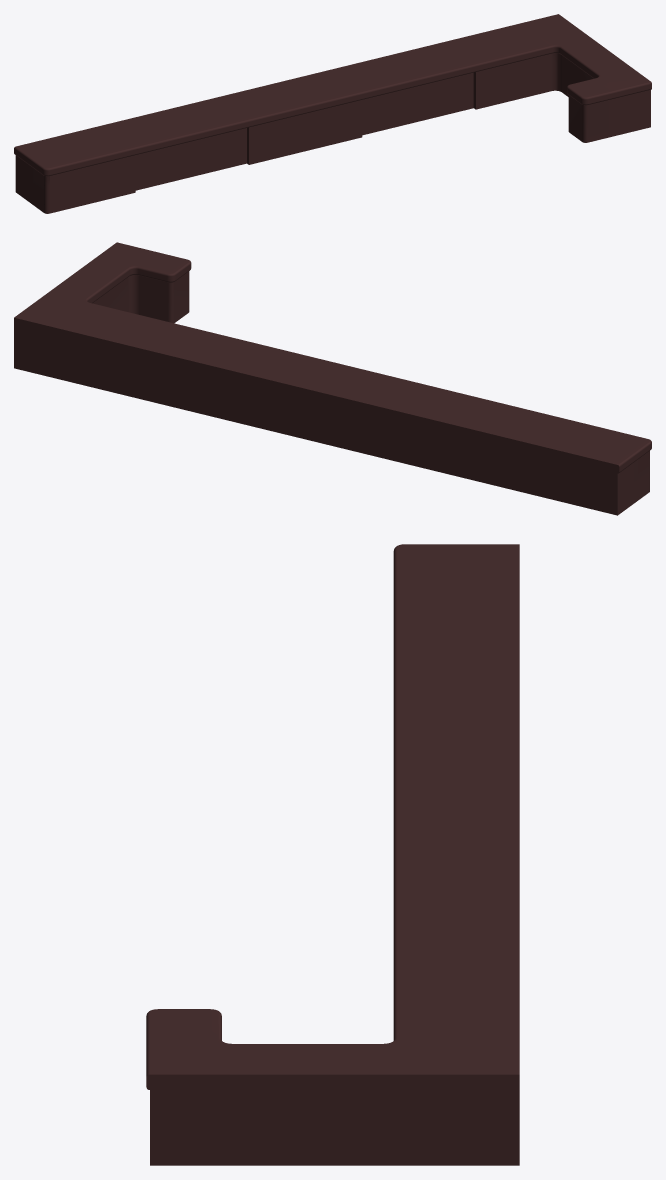
File: KitchenBar_1.fbx
The picture shows the model from 3 angles, top to bottom: view 1: azimuth 30°, elevation 25°; view 2: azimuth 150°, elevation 25°; view 3: azimuth 270°, elevation 25°; orthographic projection. The views are drawn at different scales.
Visible parts, largest first — view 1: KitchenBar_1; view 2: KitchenBar_1; view 3: KitchenBar_1.
Part boxes in pixels (box(x1,y1,x2,y2)): KitchenBar_1: box(14, 14, 651, 213); KitchenBar_1: box(14, 242, 651, 515); KitchenBar_1: box(146, 544, 519, 1165).
Bounding box in the file's own units: 250 × 20 × 74.17.
